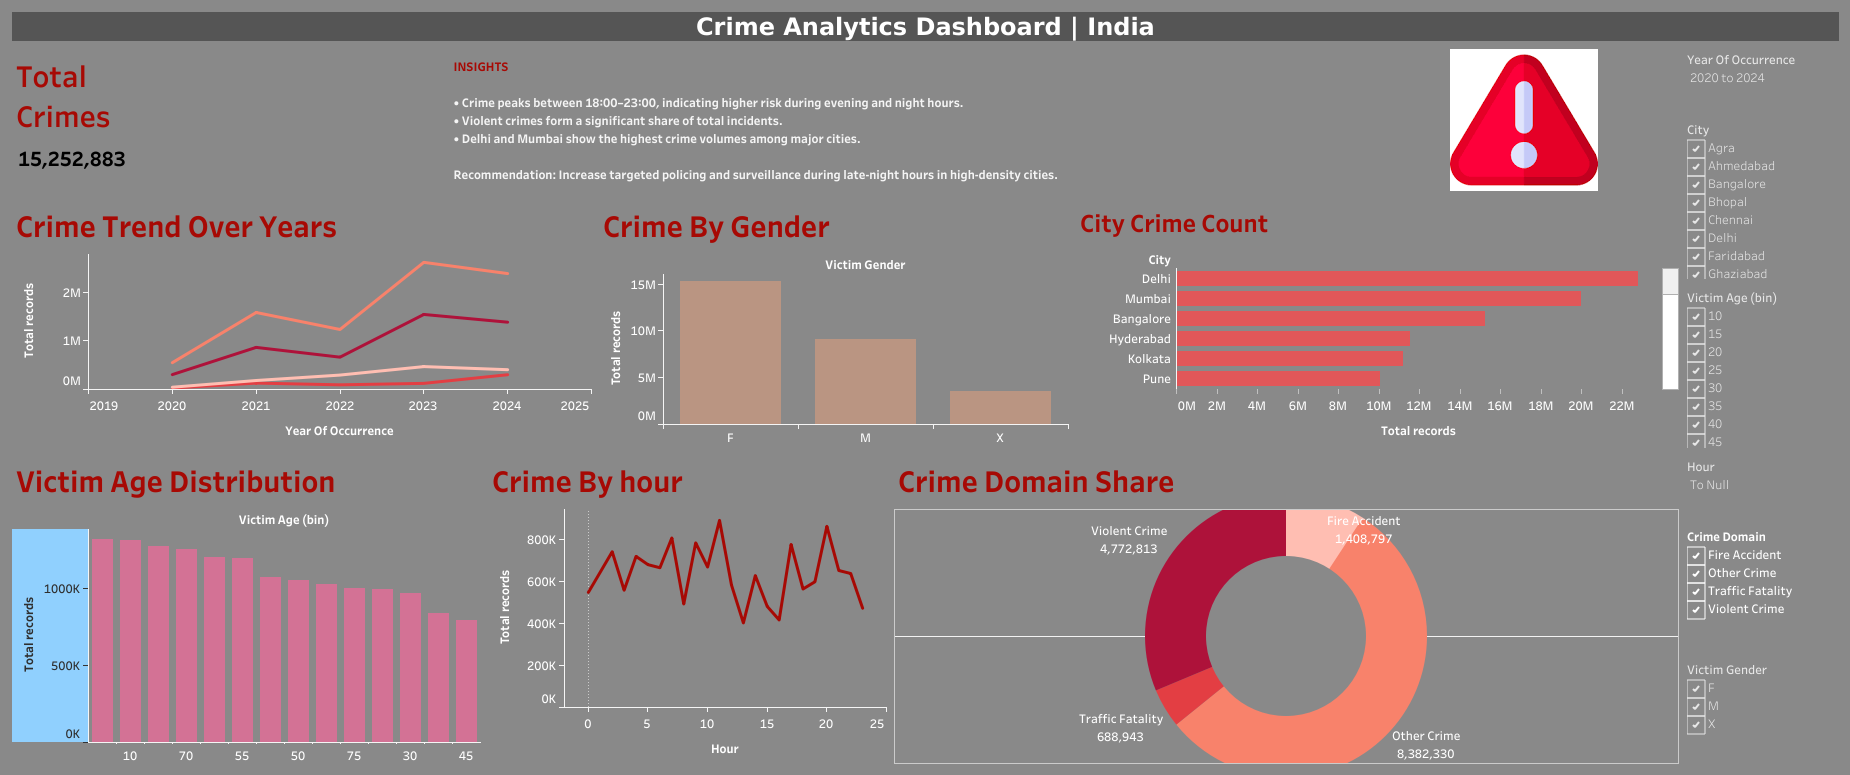

Layout of this report page (visuals, bound fields, positions):
{"tool":"tableau","page":{"name":"Dashboard 1","canvas":[1000,1000],"units":"permille","ordinal":0},"visuals":[{"type":"title","box":[4.8,10,990.3,63.7]},{"type":"worksheet","title":"Total Crime","mark":"Automatic","box":[4.8,73.7,234.2,190.3]},{"type":"text","box":[239,73.7,468.3,190.3]},{"type":"image","param":"Image/download.png","box":[707.3,73.7,191.3,190.3]},{"type":"filter","title":"Crime Trend","param":"[federated.0yunc5z1rw845e168ntre001351g].[none:year_of_occurrence:qk]","box":[898.6,73.7,96.6,91.1]},{"type":"filter","title":"Crime by city","param":"[federated.0yunc5z1rw845e168ntre001351g].[none:city:nk]","box":[898.6,164.8,96.6,192.9]},{"type":"worksheet","title":"Crime Trend","mark":"Line","rows":["Calculation_1472554427719681"],"cols":["year_of_occurrence"],"box":[4.8,263.9,313.6,322.9]},{"type":"worksheet","title":"Crime by Gender","mark":"Bar","rows":["Calculation_1472554427719681"],"cols":["victim_gender"],"box":[318.4,263.9,246.6,322.9]},{"type":"worksheet","title":"Crime by city","mark":"Automatic","rows":["city"],"cols":["Calculation_1472554427719681"],"box":[565.1,263.9,333.5,322.9]},{"type":"filter","title":"Victim Age Distribution","param":"[federated.0yunc5z1rw845e168ntre001351g].[none:Victim Age (bin):ok]","box":[898.6,357.7,96.6,192.9]},{"type":"filter","title":"Crime by hour","param":"[federated.0yunc5z1rw845e168ntre001351g].[none:Calculation_1472554456293382:qk]","box":[898.6,550.5,96.6,91.1]},{"type":"worksheet","title":"Victim Age Distribution","mark":"Bar","rows":["Calculation_1472554427719681"],"cols":["Victim Age (bin)"],"box":[4.8,586.8,287.3,403.2]},{"type":"worksheet","title":"Crime by hour","mark":"Line","rows":["Calculation_1472554427719681"],"cols":["Calculation_1472554456293382"],"box":[292.1,586.8,245,403.2]},{"type":"worksheet","title":"Crime Domain Donut","mark":"Pie","rows":["Calculation_1472554453606405","Calculation_1472554453606405"],"box":[537.1,586.8,361.5,403.2]},{"type":"filter","title":"Crime Domain Donut","param":"[federated.0yunc5z1rw845e168ntre001351g].[none:crime_domain:nk]","box":[898.6,641.7,96.6,188.5]},{"type":"filter","title":"Crime by Gender","param":"[federated.0yunc5z1rw845e168ntre001351g].[none:victim_gender:nk]","box":[898.6,830.2,96.6,159.8]}]}

Visuals, with their boxes on the dashboard's canvas, which has no fixed pixel size, in thousandths of its width and height (x1, y1, x2, y2). These are canvas units, not pixel positions in the 1850x775 screenshot, which may show the page scaled, cropped or inside an application window:
title: bbox=(5, 10, 995, 74)
"Total Crime" worksheet: bbox=(5, 74, 239, 264)
text: bbox=(239, 74, 707, 264)
image: bbox=(707, 74, 899, 264)
"Crime Trend" filter: bbox=(899, 74, 995, 165)
"Crime by city" filter: bbox=(899, 165, 995, 358)
"Crime Trend" worksheet (Line marks): bbox=(5, 264, 318, 587)
"Crime by Gender" worksheet (Bar marks): bbox=(318, 264, 565, 587)
"Crime by city" worksheet: bbox=(565, 264, 899, 587)
"Victim Age Distribution" filter: bbox=(899, 358, 995, 551)
"Crime by hour" filter: bbox=(899, 550, 995, 642)
"Victim Age Distribution" worksheet (Bar marks): bbox=(5, 587, 292, 990)
"Crime by hour" worksheet (Line marks): bbox=(292, 587, 537, 990)
"Crime Domain Donut" worksheet (Pie marks): bbox=(537, 587, 899, 990)
"Crime Domain Donut" filter: bbox=(899, 642, 995, 830)
"Crime by Gender" filter: bbox=(899, 830, 995, 990)
